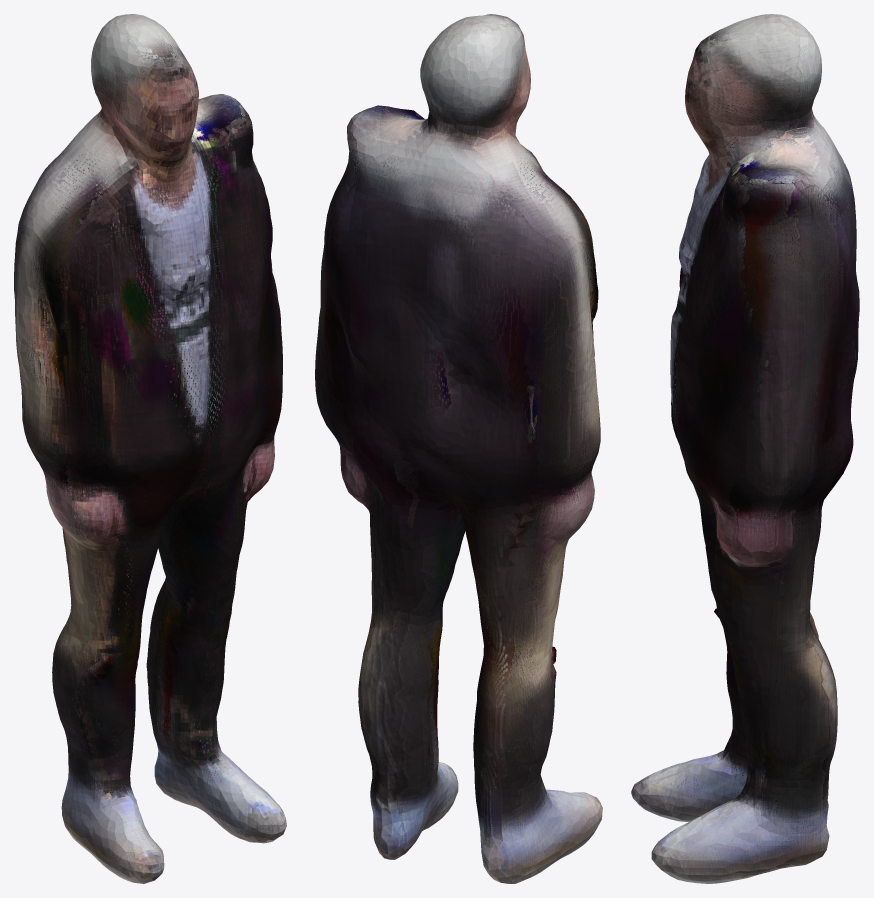
File: me3dlowq.glb
3 views of the same model, side by side, from view 1: azimuth 30°, elevation 25°; view 2: azimuth 150°, elevation 25°; view 3: azimuth 270°, elevation 25° (orthographic). The views are drawn at different scales.
Bounding box in the file's own units: 0.4297 × 1.3 × 0.3277.
1 material, 1 textured.
